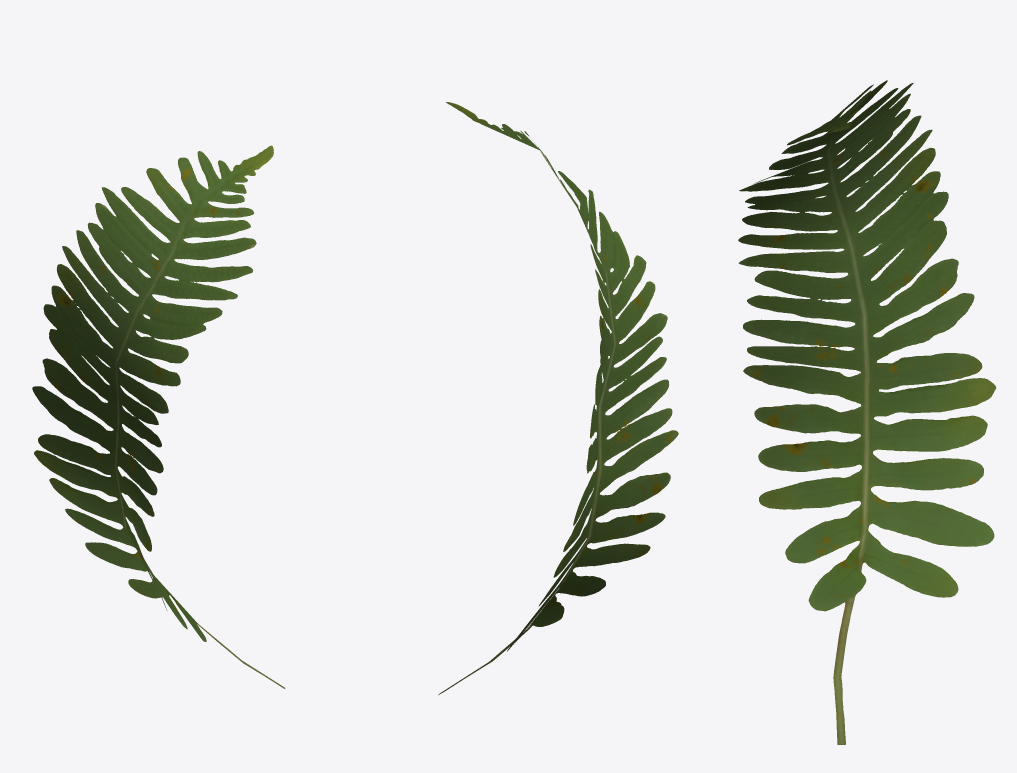
The model's file is fern-polypody.glb.
3 views of the same model, side by side, from view 1: azimuth 30°, elevation 25°; view 2: azimuth 150°, elevation 25°; view 3: azimuth 270°, elevation 25° (orthographic). The views are drawn at different scales.
Visible parts, largest first — view 1: fern-polypody; view 2: fern-polypody; view 3: fern-polypody.
Boxes of the visible parts, x1,y1,x2,y2 form: fern-polypody: (32, 145, 285, 688); fern-polypody: (438, 102, 678, 695); fern-polypody: (738, 80, 996, 744).
Bounding box in the file's own units: 0.3434 × 1 × 0.3521.
Materials: 1 (1 with a texture image).
